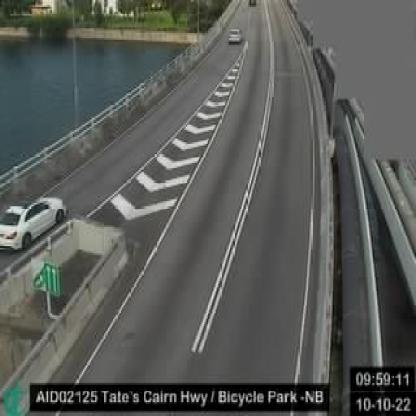Car: (0, 192, 68, 254), (228, 28, 242, 44)
